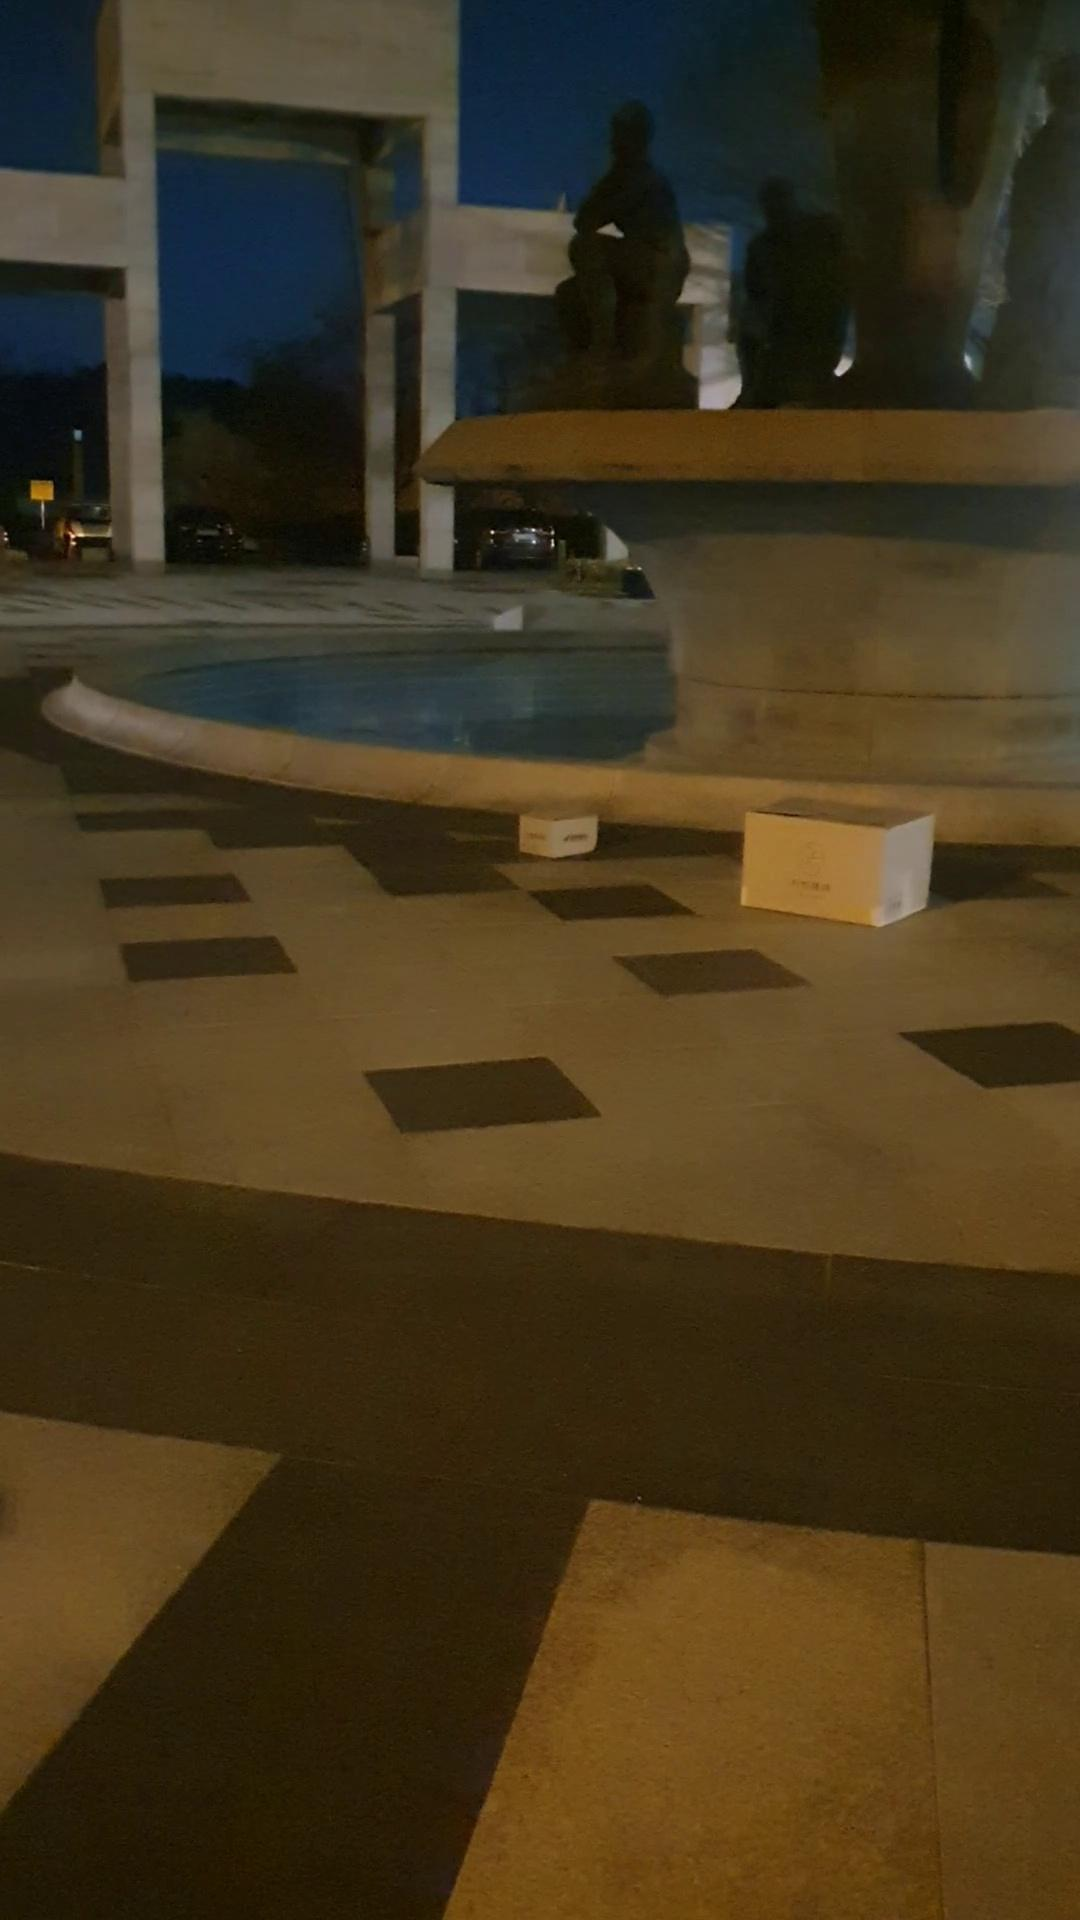Box: (721, 793, 942, 934), (513, 793, 595, 868)
